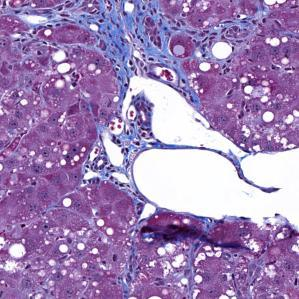fibrosis: (99, 7, 196, 77)
